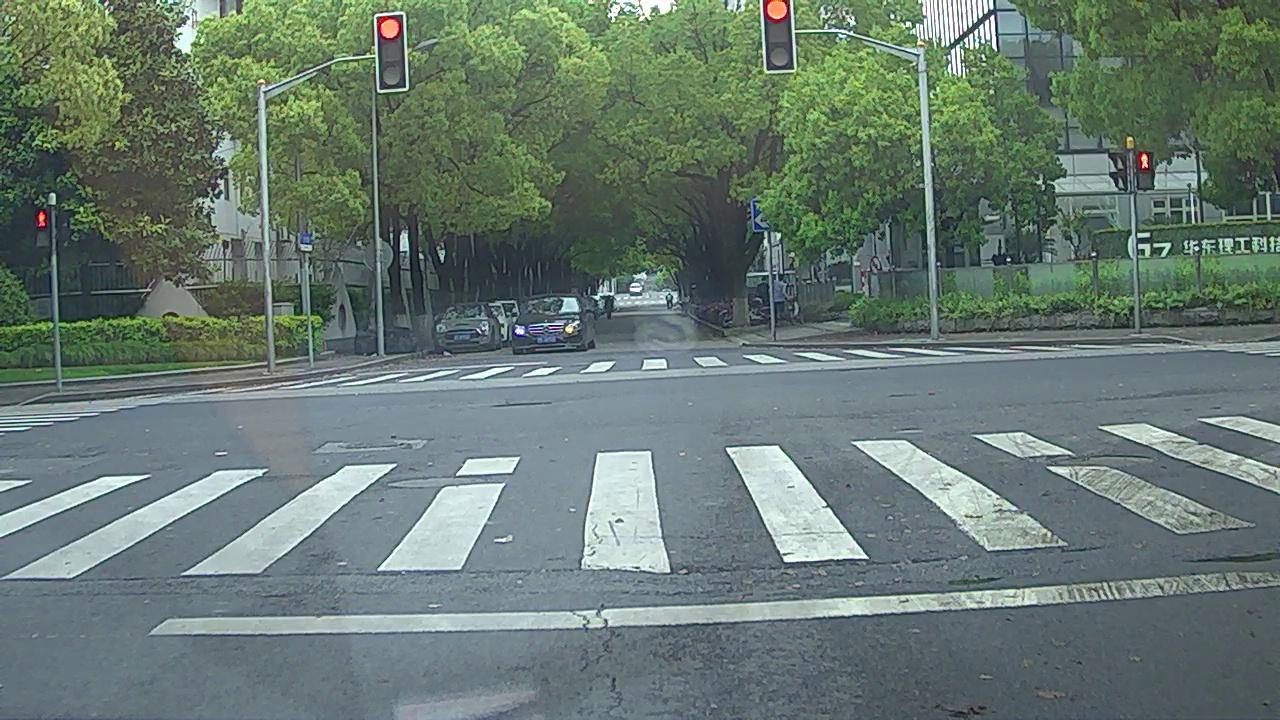traffic_light: (376, 15, 407, 89), (762, 1, 795, 69)
